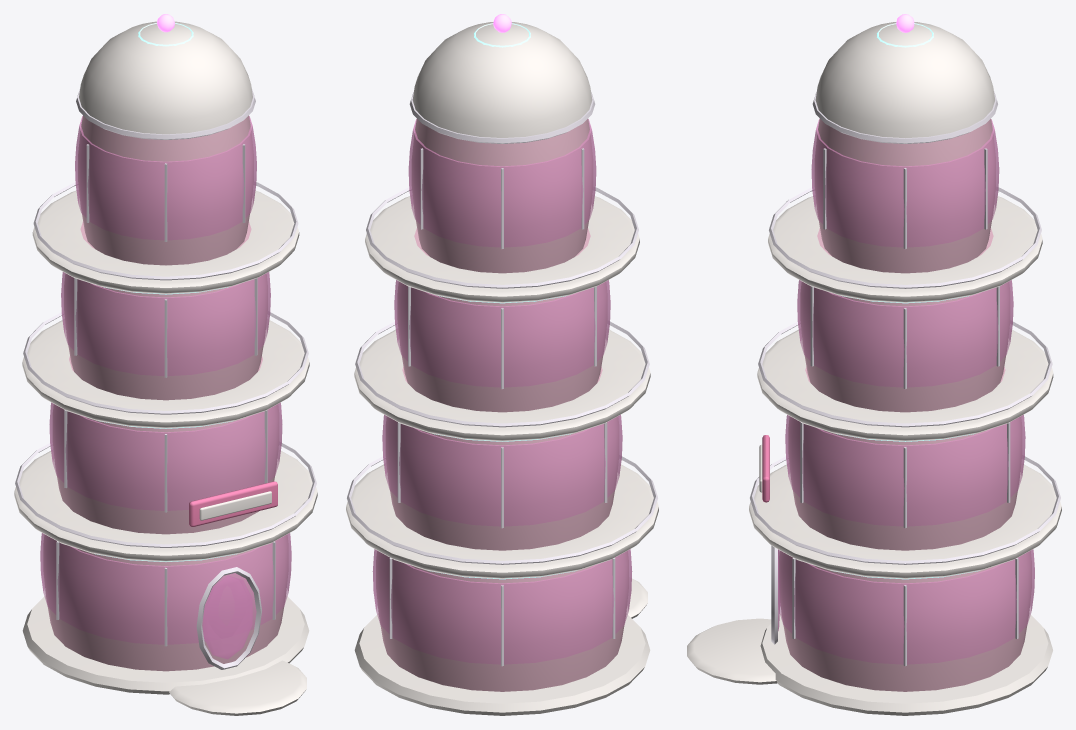
File: building_bubble_tall.glb
3 views of the same model, side by side, from view 1: azimuth 30°, elevation 25°; view 2: azimuth 150°, elevation 25°; view 3: azimuth 270°, elevation 25° (orthographic). The views are drawn at different scales.
Parts seen in each view (by area): view 1: building_bubble_tall; view 2: building_bubble_tall; view 3: building_bubble_tall.
Boxes of the visible parts, box(x1,y1,x2,y2) form: building_bubble_tall: box(14, 14, 317, 715); building_bubble_tall: box(346, 14, 658, 715); building_bubble_tall: box(687, 14, 1061, 715).
Size of the model in its own units: 6.56 by 14.8 by 7.86.
